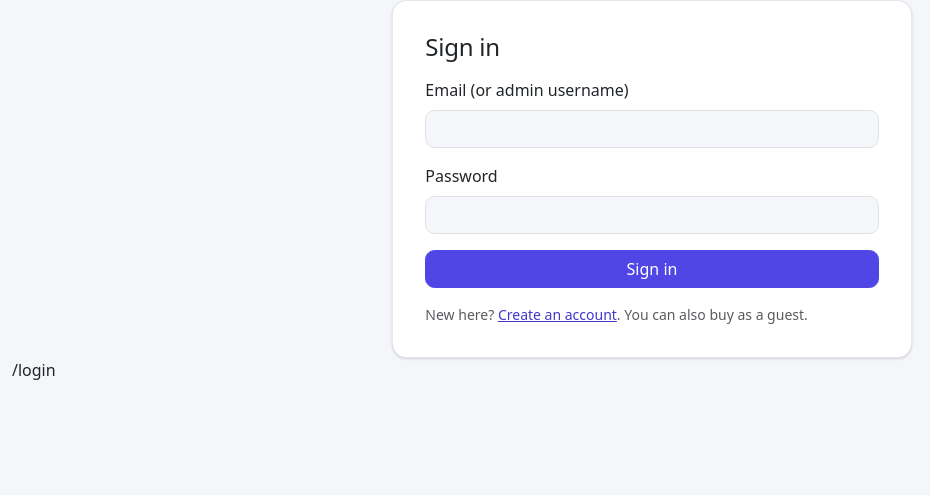
LoginPage › explains the lockout after a wrong password and marks both fields
In the field labelled "Email (or admin username)": (652, 129) [425,110,879,148], type "ada@example.com"
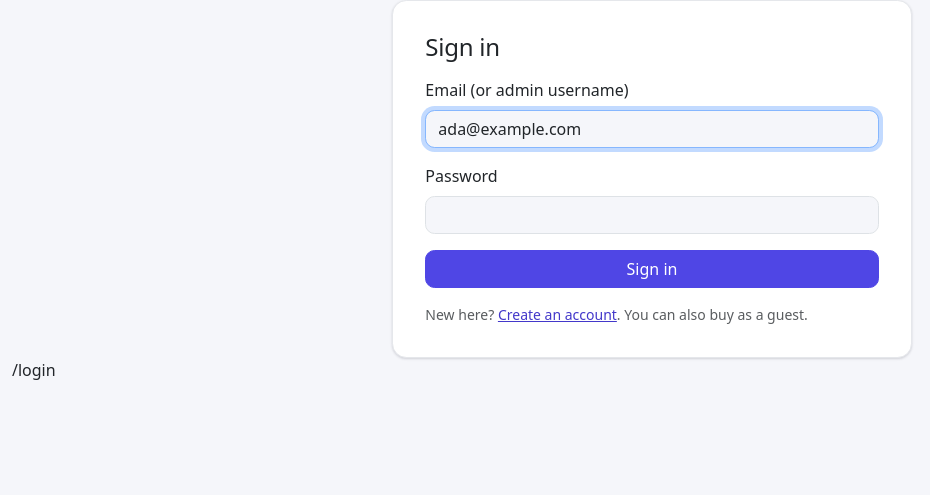
In the password field labelled "Password": (652, 215) [425,196,879,234], type "wrong password"
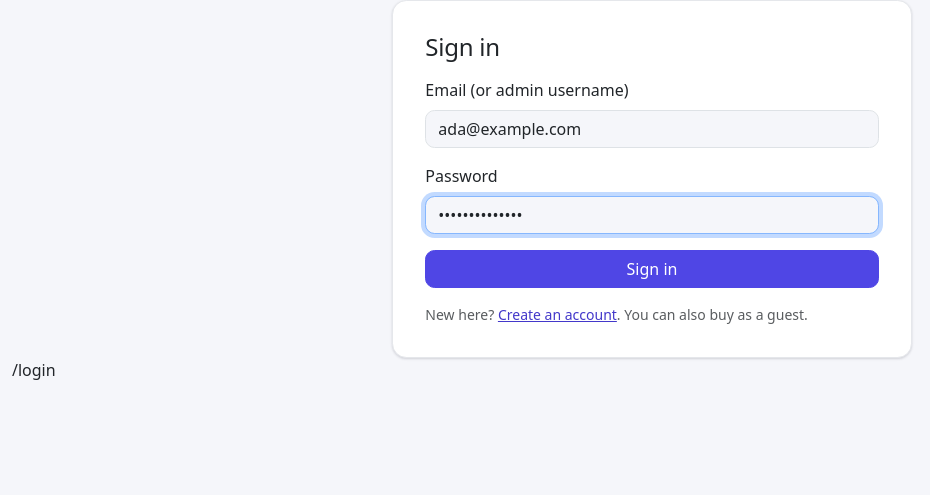
Click the button "Sign in": (652, 269) [425,250,879,288]
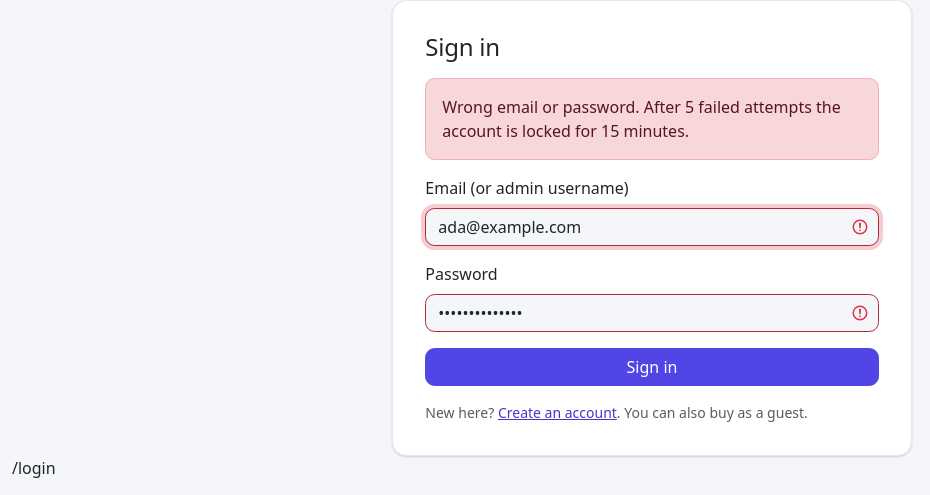
Expected: the text with test id "location" reads "/login", [12,457,56,479]
Result: the message shows "After 5 failed attempts the account is locked for 15 minutes" at [442,96,841,142]
